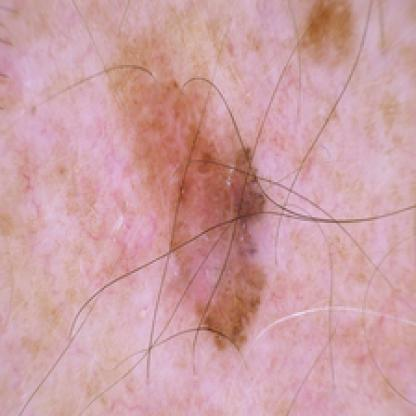Skin_Cancer-Malignant: (114, 40, 266, 354)
